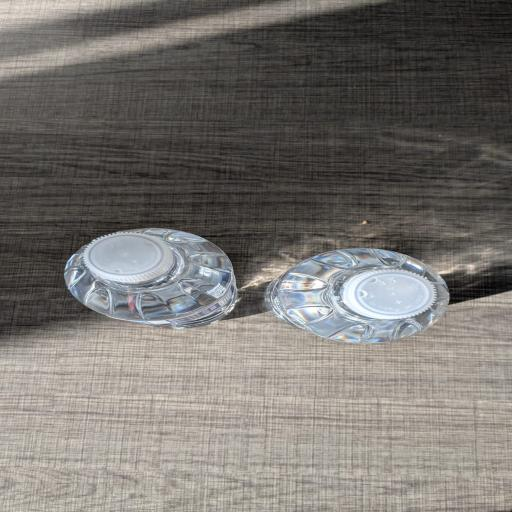waterbottle: (266, 249, 449, 343), (65, 229, 237, 328)
